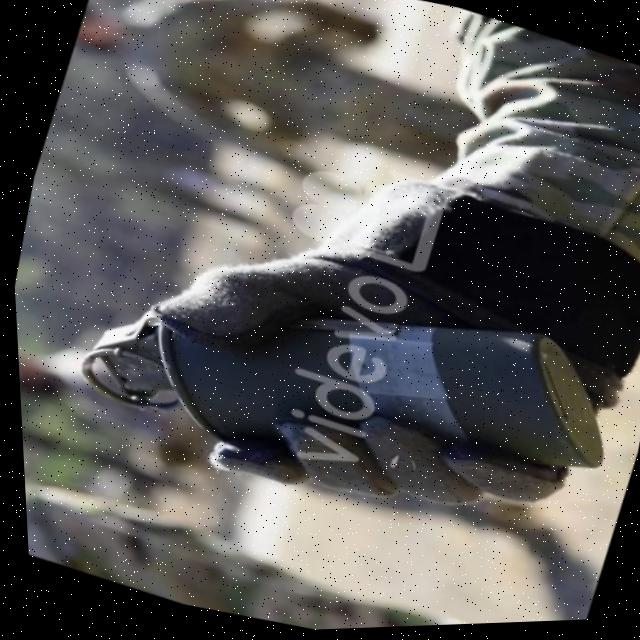grenade: (41, 183, 640, 586)
